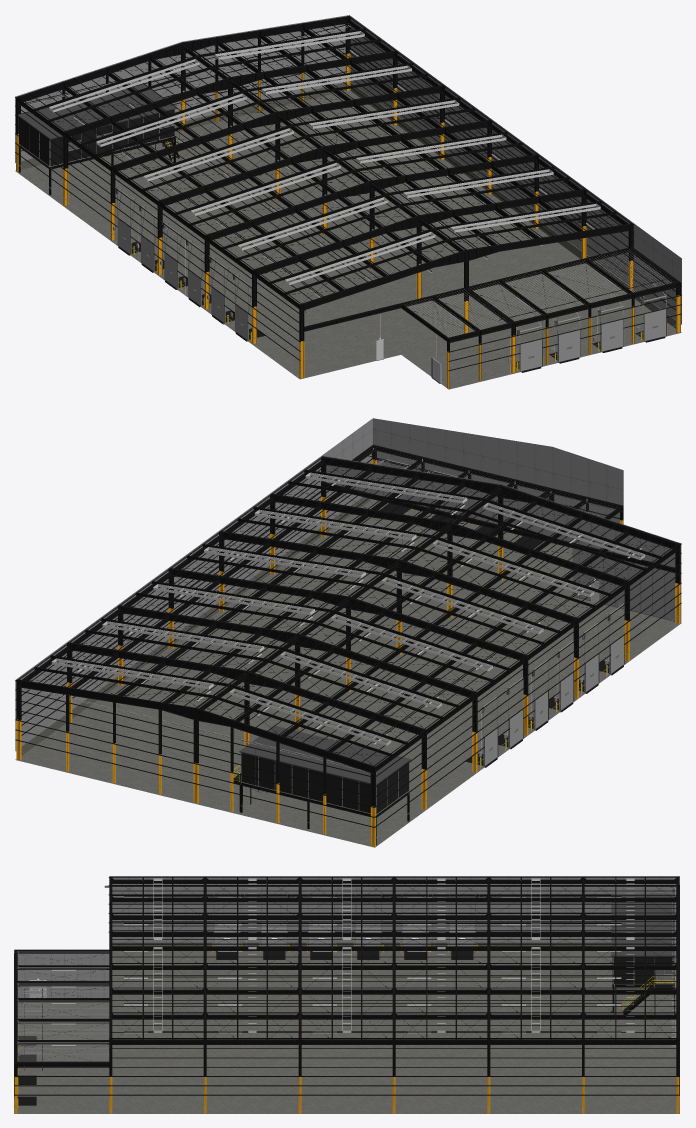
File: Building.glb
3 renders of one model, top to bottom at view 1: azimuth 30°, elevation 25°; view 2: azimuth 150°, elevation 25°; view 3: azimuth 270°, elevation 25°, orthographic. The views are drawn at different scales.
Parts seen in each view (by area): view 1: Bldg_Floor_001, Bldg_WallPanel_001, CL_SteelFrame_S_001, CL_SteelFrame_SS_001, CL_SteelFrame_M_001, CL_Toplight_Wall_001, Bldg_SteelFrame_S_001, CL_TopLight_Frame_001, Bldg_SteelFrame_Bottom, Bldg_SteelFrame_L_010, Bldg_WallConcrete_001, Bldg_SteelFrame_L_009 (+19 smaller); view 2: Bldg_Floor_001, Bldg_WallPanel_001, CL_SteelFrame_S_001, CL_SteelFrame_SS_001, CL_SteelFrame_M_001, CL_Toplight_Wall_001, Bldg_SteelFrame_S_001, Bldg_WallPalnel_002, CL_TopLight_Frame_001, Bldg_SteelFrame_Bottom, Prefab_Wall_001, Prefab_Roof_001 (+15 smaller); view 3: Bldg_Floor_001, CL_SteelFrame_M_001, CL_SteelFrame_SS_001, Bldg_WallPanel_001, Bldg_SteelFrame_S_001, Bldg_BentPlate_001, Bldg_SteelFrame_L_010, CL_SteelFrame_S_001, Prefab_Roof_001, Bldg_WallPalnel_002, CL_Cchannel_001, CL_TopLight_Frame_001 (+24 smaller).
Part boxes in pixels (box(x1,y1,x2,y2)): Bldg_Floor_001: box(15, 90, 681, 389); Bldg_WallPanel_001: box(15, 15, 681, 324); CL_SteelFrame_S_001: box(33, 28, 616, 295); CL_SteelFrame_SS_001: box(17, 16, 631, 304); CL_SteelFrame_M_001: box(18, 17, 628, 308); CL_Toplight_Wall_001: box(49, 31, 600, 284); Bldg_SteelFrame_S_001: box(15, 17, 681, 370); CL_TopLight_Frame_001: box(49, 31, 600, 283); Bldg_SteelFrame_Bottom: box(16, 53, 680, 389); Bldg_SteelFrame_L_010: box(401, 248, 680, 351); Bldg_WallConcrete_001: box(15, 82, 681, 380); Bldg_SteelFrame_L_009: box(62, 30, 633, 332); Bldg_Floor_001: box(15, 499, 680, 847); Bldg_WallPanel_001: box(15, 418, 623, 750); CL_SteelFrame_S_001: box(34, 469, 662, 756); CL_SteelFrame_SS_001: box(18, 456, 678, 766); CL_SteelFrame_M_001: box(22, 458, 677, 771); CL_Toplight_Wall_001: box(51, 473, 645, 745); Bldg_SteelFrame_S_001: box(15, 457, 681, 827); Bldg_WallPalnel_002: box(322, 455, 681, 621); CL_TopLight_Frame_001: box(52, 472, 645, 743); Bldg_SteelFrame_Bottom: box(16, 459, 680, 846); Prefab_Wall_001: box(241, 753, 408, 813); Prefab_Roof_001: box(239, 726, 410, 785); Bldg_Floor_001: box(14, 951, 679, 1113); CL_SteelFrame_M_001: box(112, 878, 676, 1044); CL_SteelFrame_SS_001: box(109, 877, 678, 1038); Bldg_WallPanel_001: box(109, 876, 679, 942); Bldg_SteelFrame_S_001: box(14, 877, 679, 1095); Bldg_BentPlate_001: box(17, 951, 109, 1061); Bldg_SteelFrame_L_010: box(14, 949, 109, 1075); CL_SteelFrame_S_001: box(142, 877, 645, 1041); Prefab_Roof_001: box(611, 893, 676, 956); Bldg_WallPalnel_002: box(14, 885, 109, 997); CL_Cchannel_001: box(124, 896, 621, 1031); CL_TopLight_Frame_001: box(153, 878, 634, 1030).
Size of what is drawn, in the model's own units: 37.66 by 9.8 by 65.03.
Materials: 43 (19 with a texture image).
